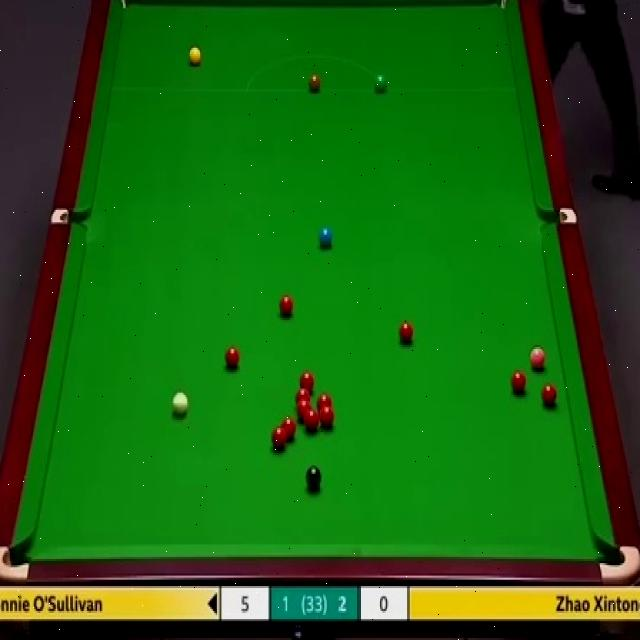black-ball: (305, 465, 322, 488)
blue-ball: (318, 226, 334, 250)
brown-ball: (308, 73, 320, 93)
green-ball: (373, 74, 388, 94)
pink-ball: (528, 346, 548, 371)
red-ball: (540, 382, 557, 407), (272, 424, 288, 450), (511, 368, 526, 395), (397, 320, 414, 343), (320, 404, 335, 429), (224, 345, 240, 368), (279, 294, 294, 318), (281, 417, 296, 441), (299, 370, 314, 393), (305, 408, 319, 432), (294, 388, 310, 406), (297, 400, 311, 420), (317, 392, 333, 408)
white-ball: (170, 390, 189, 415)
yellow-ball: (188, 47, 201, 68)
